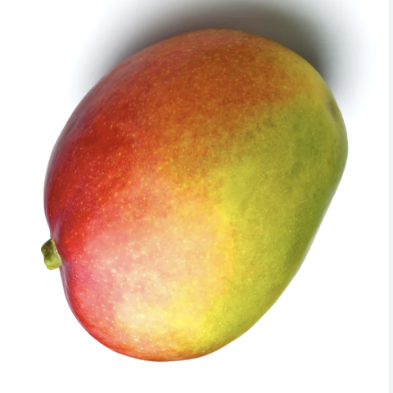mango: (14, 13, 375, 388)
